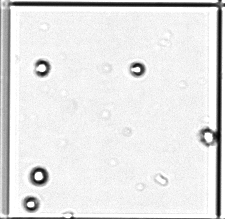Living Cell: (30, 168, 48, 185), (34, 60, 50, 76), (201, 128, 215, 146), (23, 196, 39, 211), (130, 63, 145, 77)
